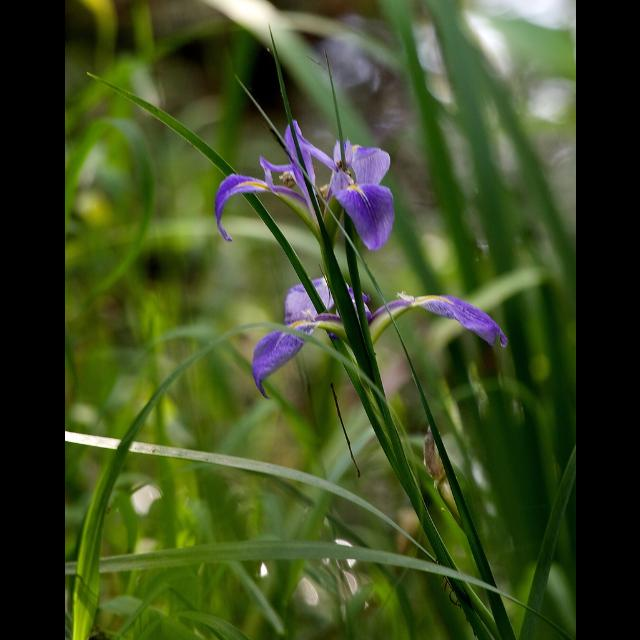Flower: (254, 274, 506, 402), (215, 98, 402, 246)
